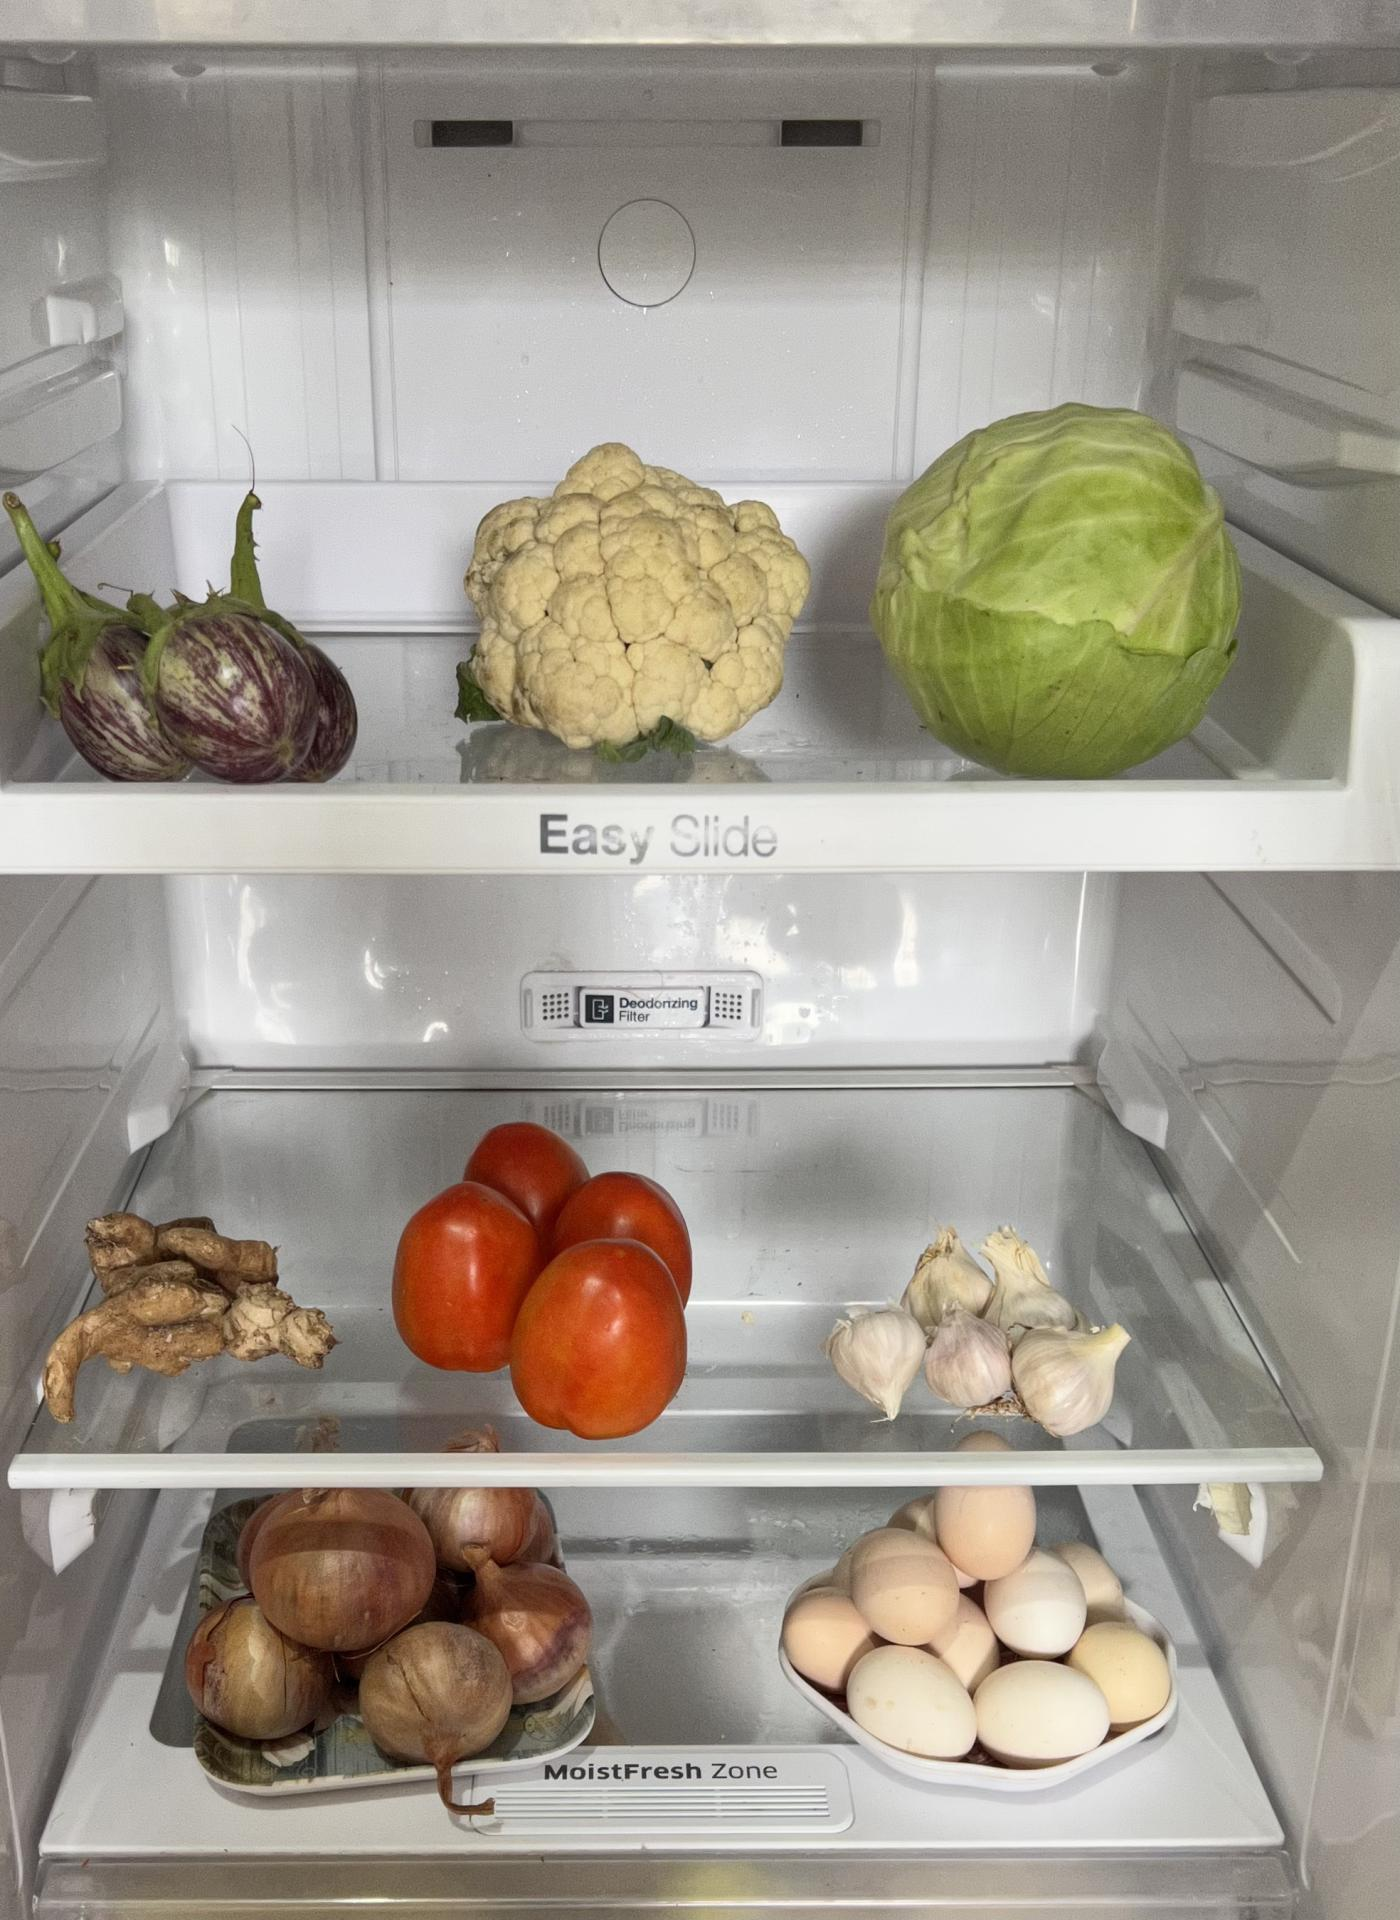cabbage: (883, 404, 1233, 762)
cauliflower: (464, 444, 796, 741)
egg: (777, 1482, 1167, 1758)
garlic: (823, 1227, 1129, 1440)
ginger: (48, 1204, 322, 1403)
onion: (179, 1483, 596, 1775)
tomato: (395, 1117, 695, 1439)
